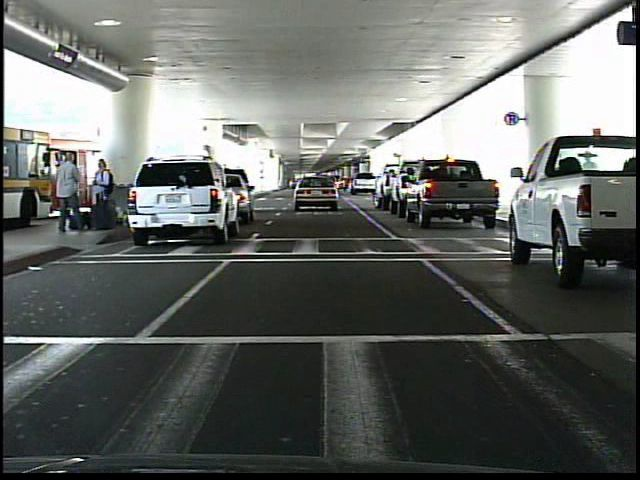person: (51, 151, 84, 233), (88, 155, 114, 234)
